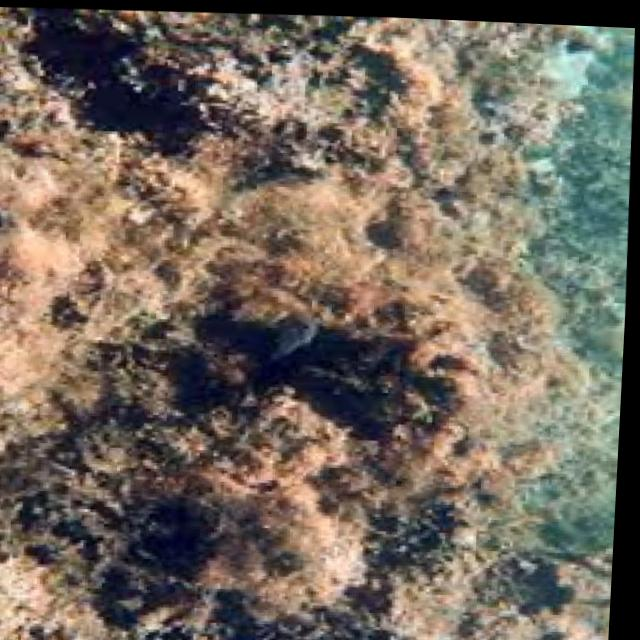Dead Coral: (137, 83, 558, 455), (0, 356, 399, 640), (77, 3, 376, 129)
